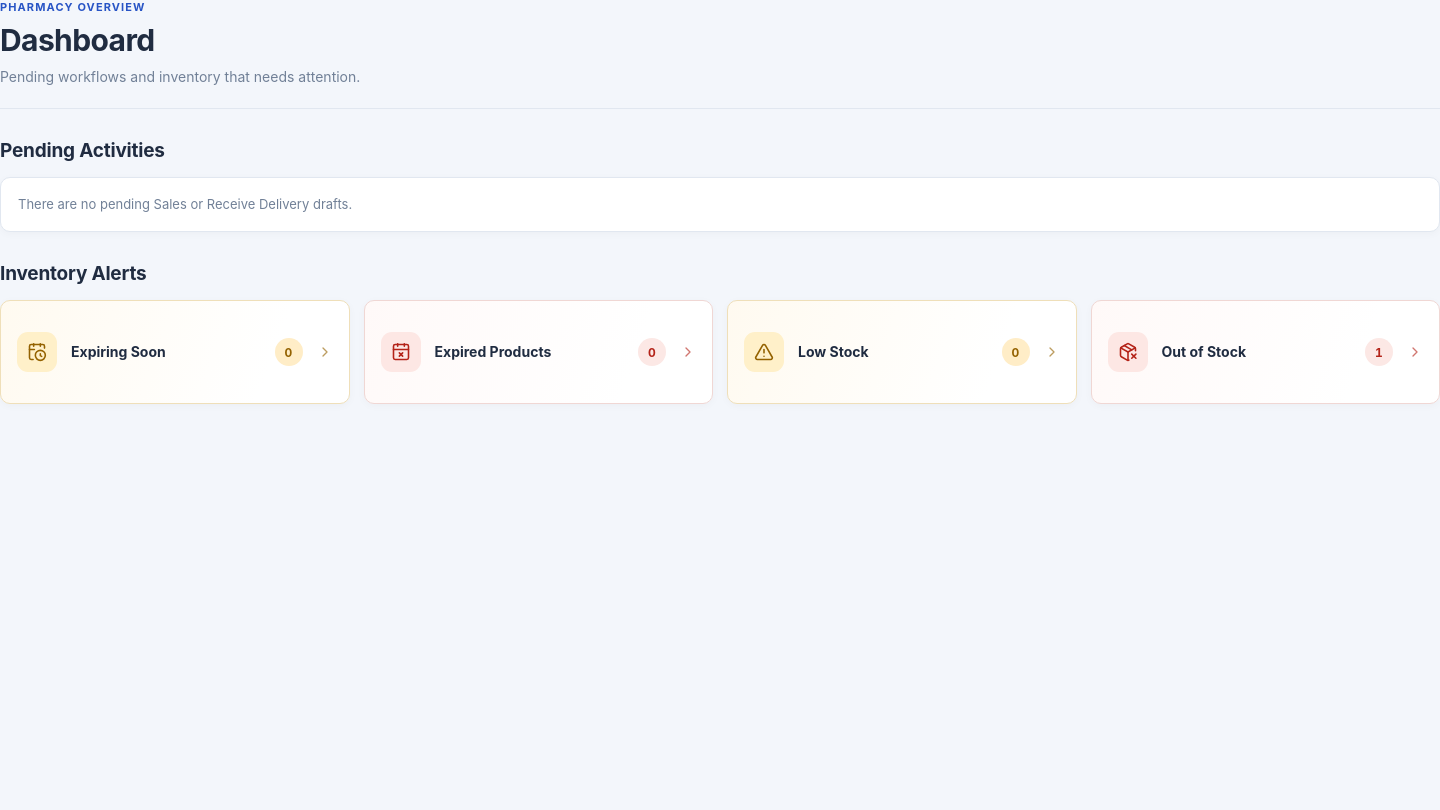
Test case: Dashboard inventory alerts › excludes an expired batch when its stock is zero
The width and height of the screenshot is (1440, 810).
Click the button with aria-label "Open Expired Products details, 0 affected products/variants" at x=538, y=352, box [364, 300, 713, 404]
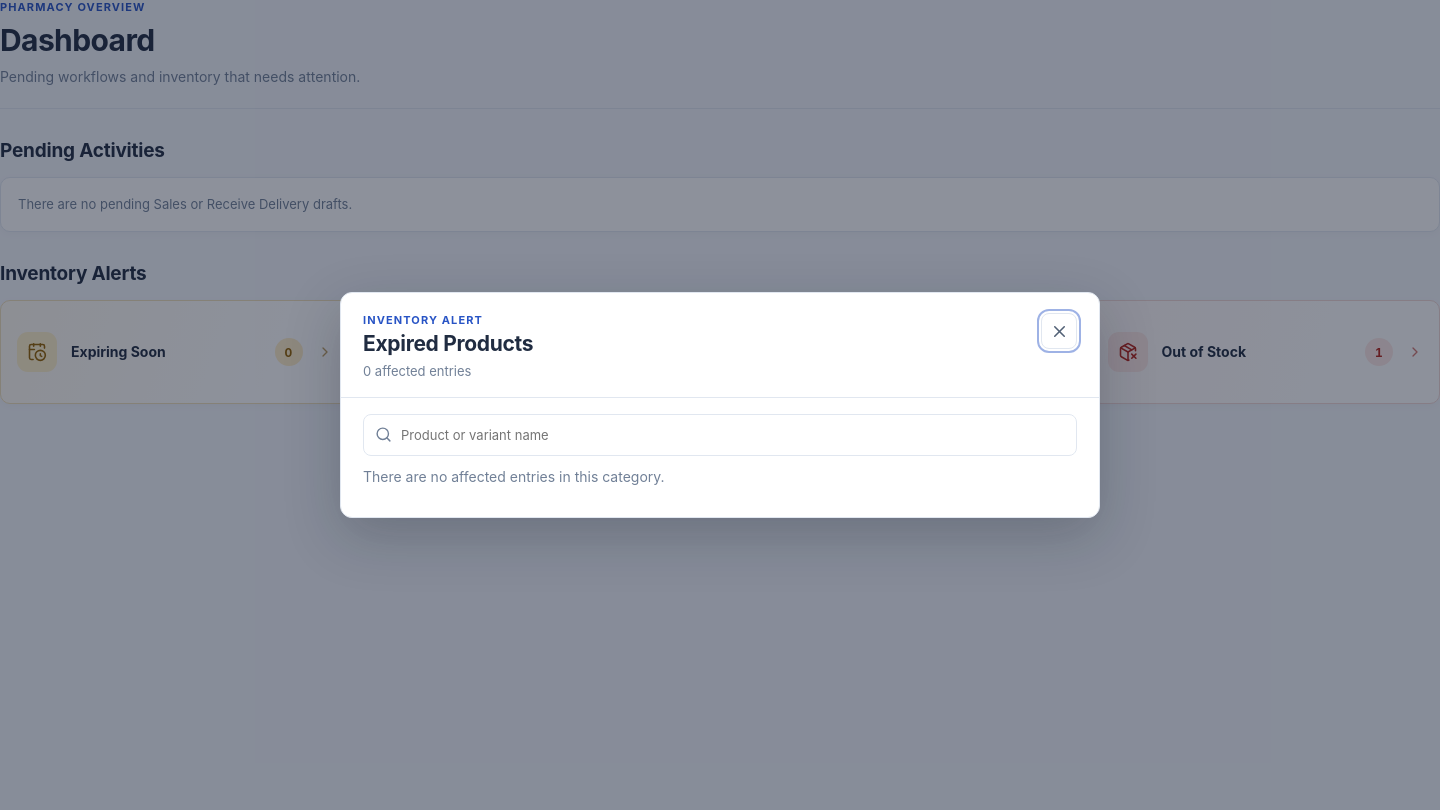
Expected: the text "0 affected entries" is shown, [363, 363, 471, 379]
Expected: the message reads "There are no affected entries in this category.", [363, 468, 665, 485]
